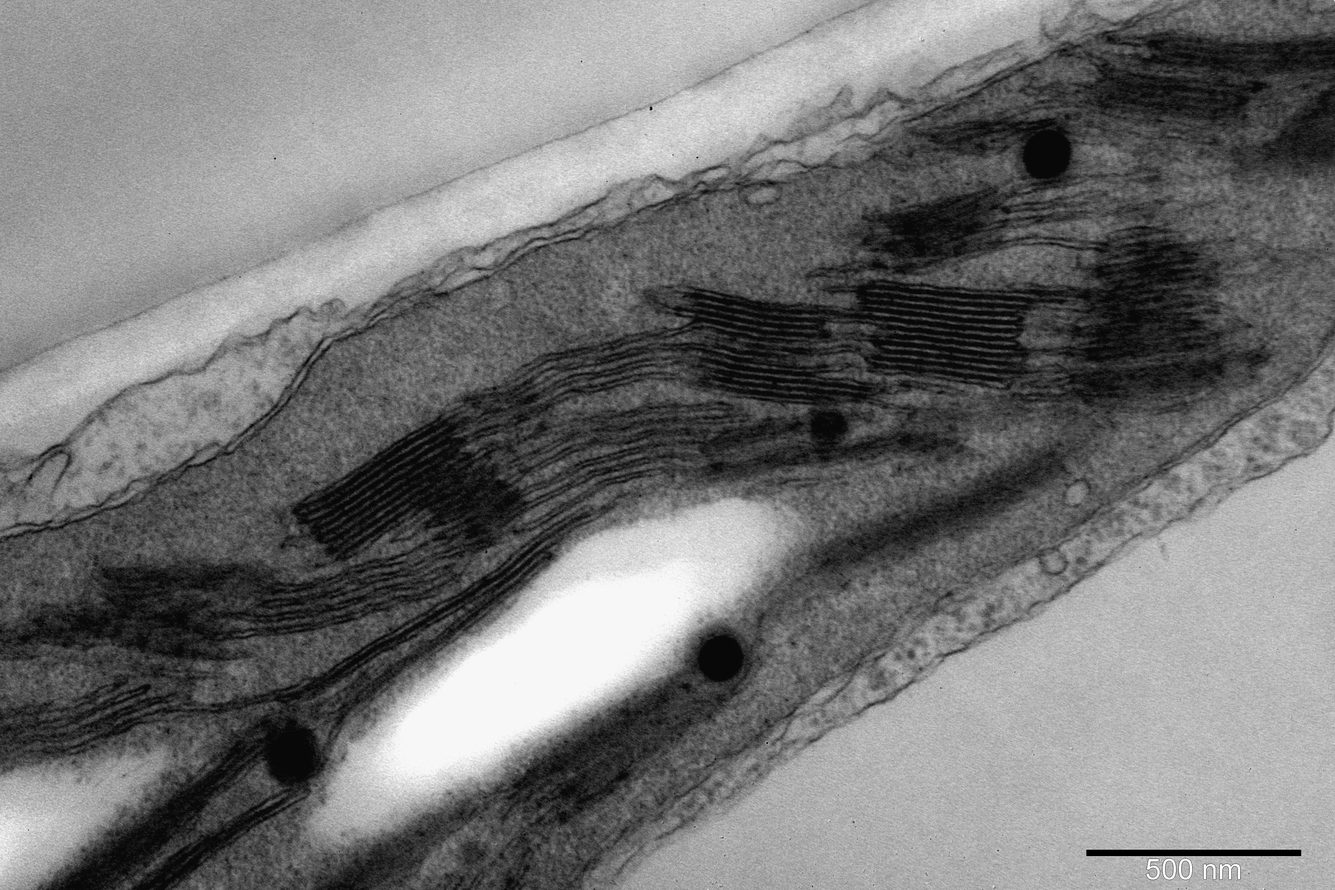granum: (288, 409, 528, 566), (49, 734, 263, 890), (816, 443, 1070, 572), (514, 672, 731, 820), (853, 276, 1084, 392), (1081, 225, 1221, 367), (32, 563, 211, 662), (324, 790, 481, 890), (678, 340, 868, 406), (1073, 65, 1245, 132), (450, 525, 566, 623), (1076, 347, 1260, 406), (882, 183, 1015, 261), (1152, 29, 1335, 78), (686, 284, 833, 345), (1240, 88, 1335, 176), (133, 834, 222, 889), (931, 116, 968, 152)
